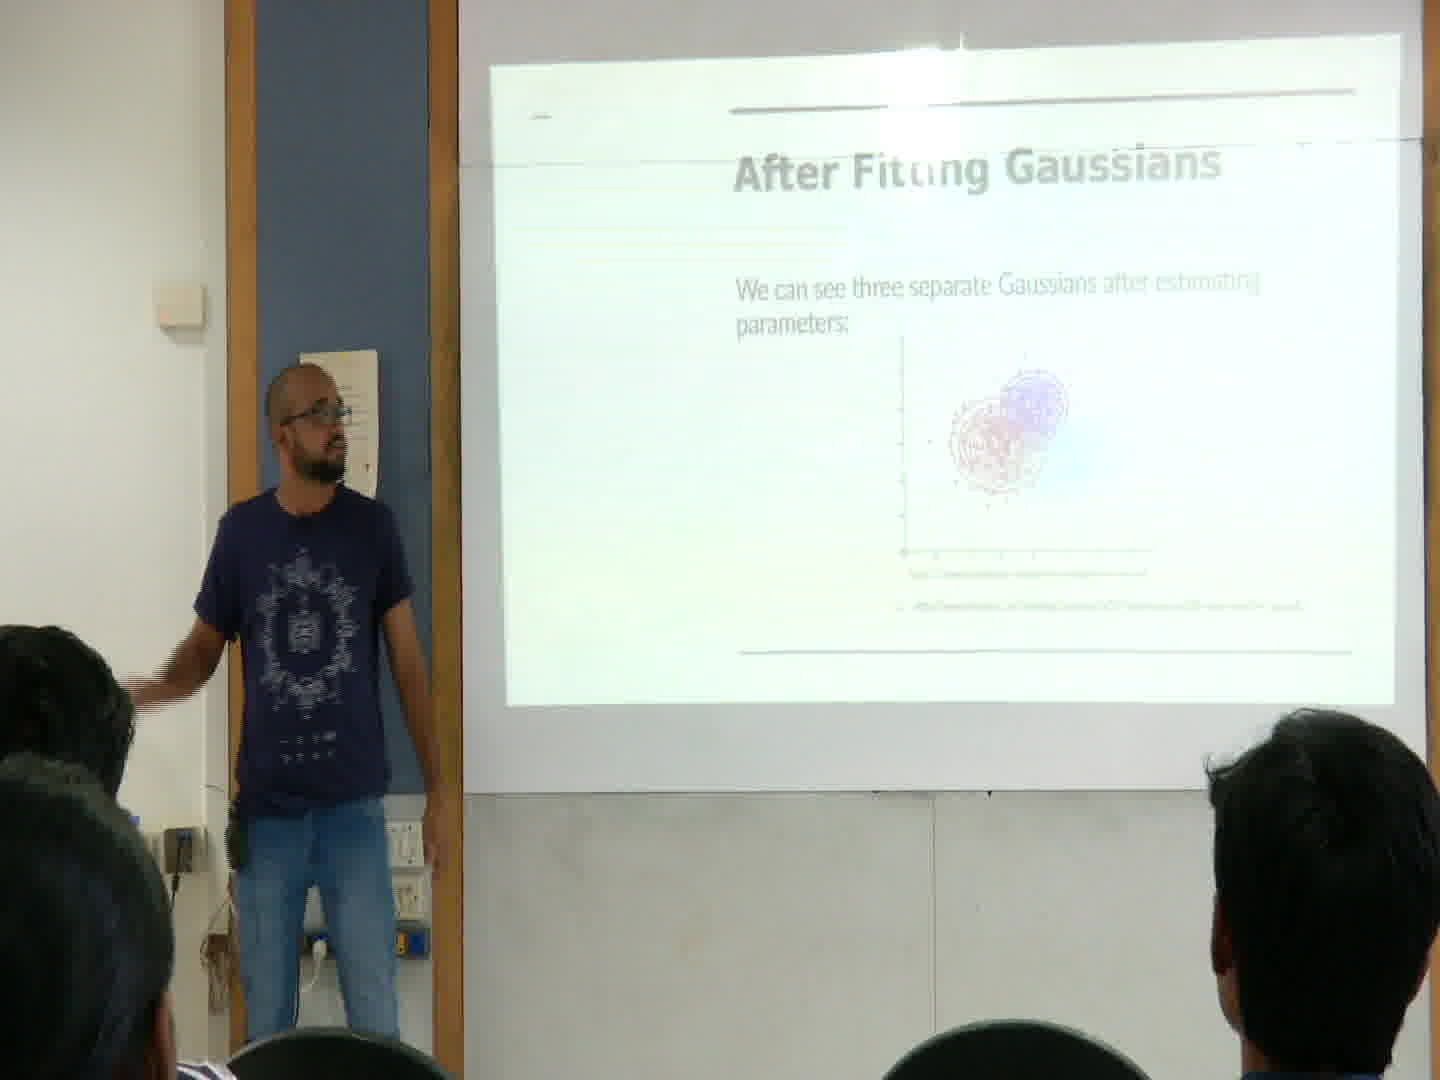slide: (492, 34, 1397, 704)
